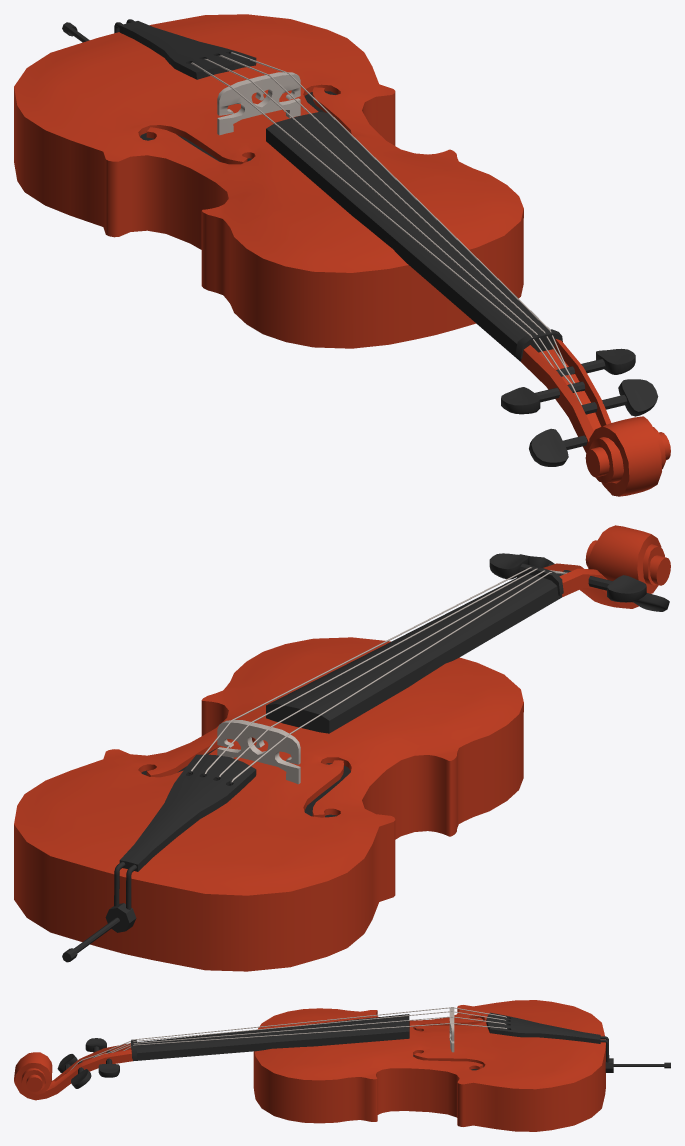
Rendered from Chello_01.fbx.
3 views of the same model, one above another, from view 1: azimuth 30°, elevation 25°; view 2: azimuth 150°, elevation 25°; view 3: azimuth 270°, elevation 25° (orthographic). The views are drawn at different scales.
Parts seen in each view (by area): view 1: Chello_01; view 2: Chello_01; view 3: Chello_01.
Part boxes in pixels (box(x1,y1,x2,y2)): Chello_01: box(14, 14, 670, 496); Chello_01: box(14, 525, 670, 971); Chello_01: box(14, 1000, 670, 1131).
Bounding box in the file's own units: 0.469 × 0.2029 × 1.46.
